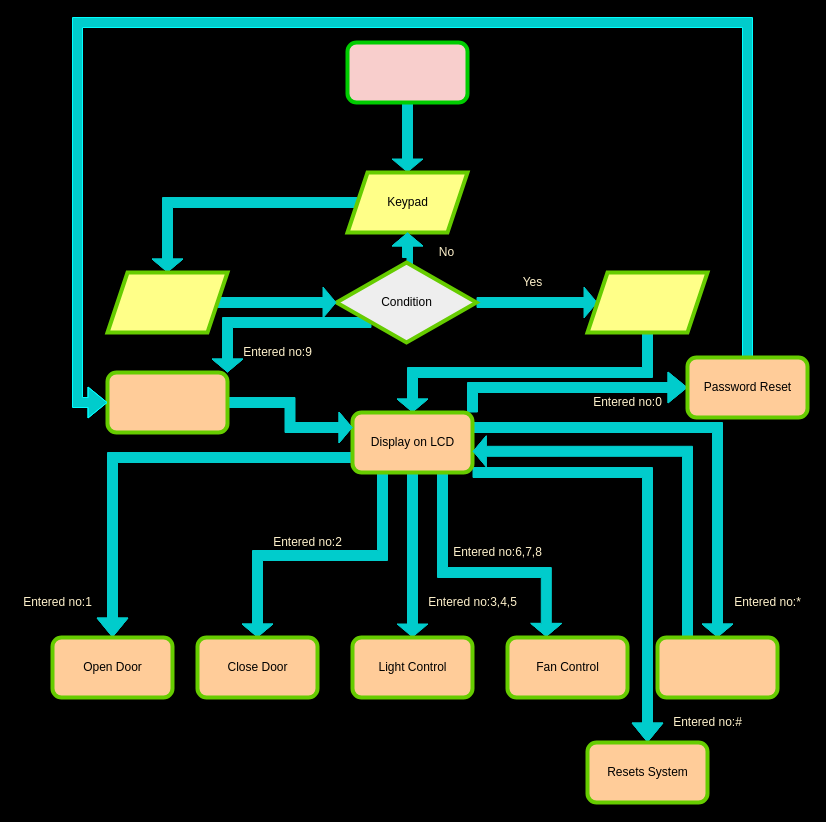
Some shapes in this 826 by 822 pixel diagram are drawn without their labels. Here are the shapes that lost their labels. From the top down, the box of each, then its label:
(345, 40, 469, 104): Start
(105, 270, 229, 334): Enter Password
(585, 270, 709, 334): Entered Keypad Number
(105, 370, 229, 434): Temperature Detection
(655, 635, 779, 699): No of Lights and Fans On
